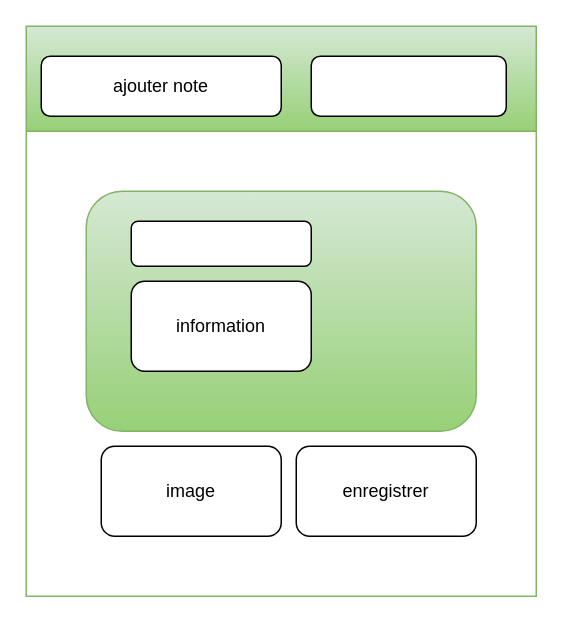
Image size: 563x623. Some labels were removed from this diagram. The shapes that lost their labels are listed below. From the top down, each one's centre as x and y in pixels, then its label:
the point at 408,85: consulter note
the point at 220,243: nom
